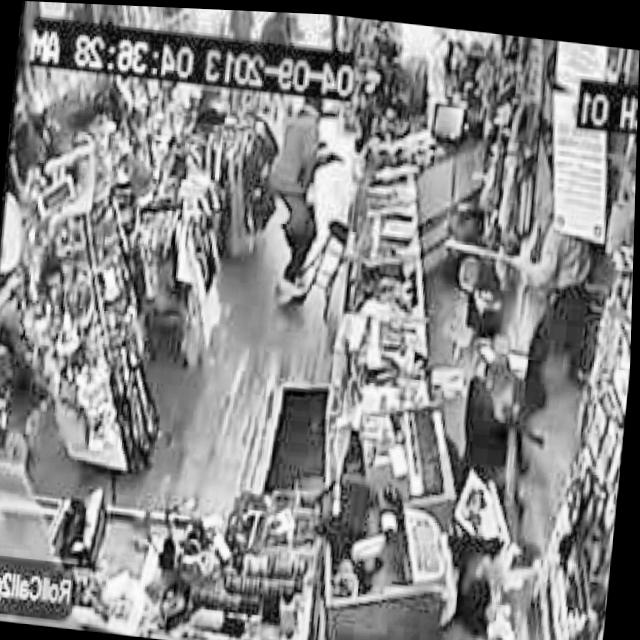robbery: (258, 90, 359, 314), (440, 213, 612, 298)
